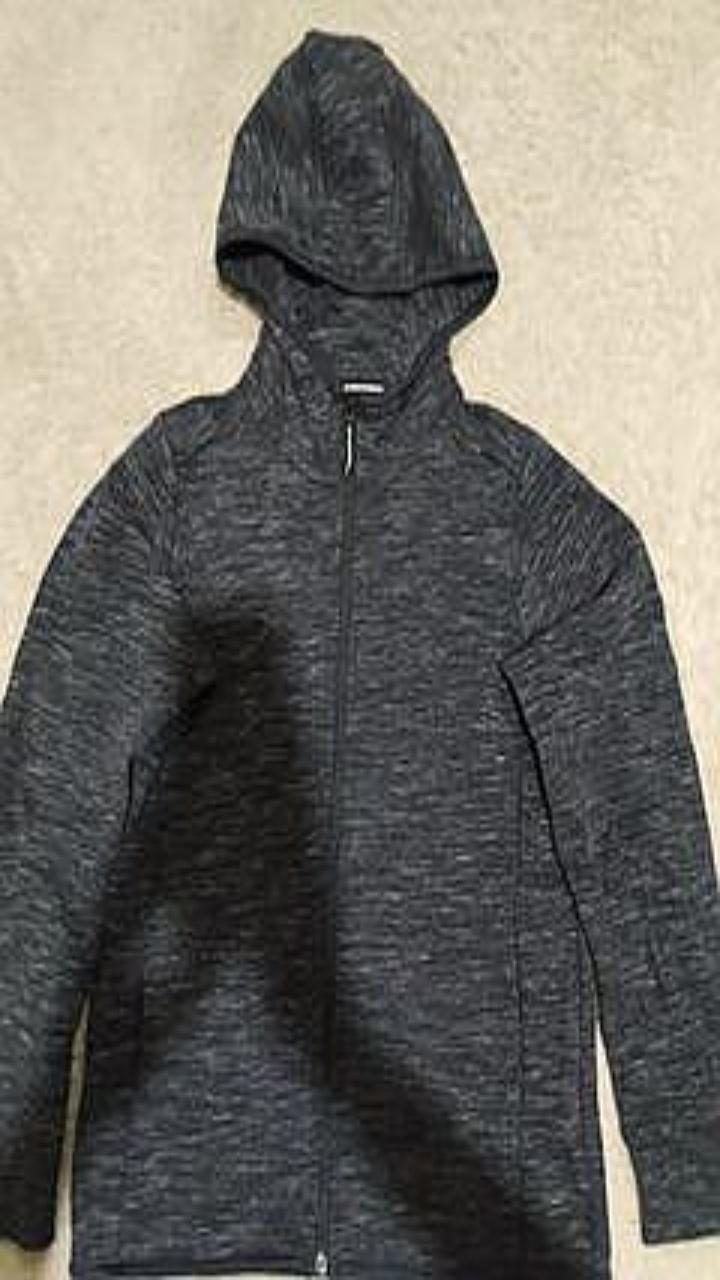Sports_Jacket: (0, 28, 719, 1279)
